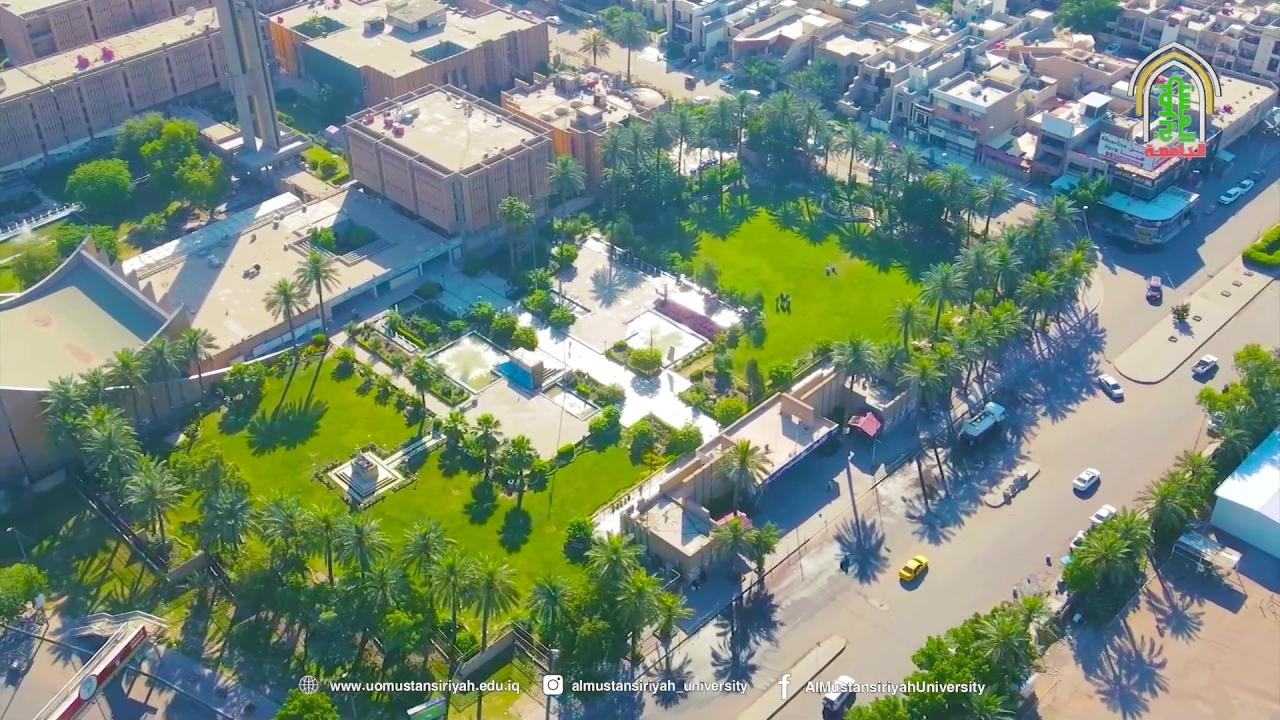car: (959, 400, 1007, 445), (821, 690, 856, 720), (1217, 177, 1254, 205), (898, 554, 928, 582), (1097, 373, 1124, 402), (1088, 504, 1117, 530), (1072, 467, 1100, 493), (1069, 528, 1090, 555), (1192, 354, 1218, 374), (1145, 275, 1162, 301), (1206, 411, 1226, 433), (1217, 186, 1241, 204), (718, 72, 735, 88), (699, 158, 718, 170), (692, 96, 710, 106), (886, 141, 901, 152), (544, 15, 560, 25), (517, 10, 533, 20)
fountain: (608, 306, 712, 379), (428, 332, 506, 392), (0, 199, 85, 242)
tree: (843, 590, 1062, 718), (432, 410, 620, 515), (1194, 341, 1279, 460), (1061, 505, 1155, 592), (68, 402, 142, 499), (612, 566, 669, 681), (119, 452, 187, 546), (422, 549, 478, 663), (463, 551, 520, 652), (647, 590, 695, 708), (253, 487, 311, 583), (138, 117, 199, 200), (711, 436, 773, 514), (1133, 468, 1203, 535), (826, 117, 871, 216), (916, 259, 969, 343), (298, 502, 351, 586), (332, 508, 391, 580), (63, 156, 134, 215), (292, 249, 341, 334), (395, 515, 457, 582), (261, 276, 311, 357), (198, 482, 255, 552), (104, 345, 152, 428), (522, 572, 574, 648), (0, 560, 49, 640), (544, 153, 587, 244), (600, 7, 649, 84), (173, 151, 228, 219), (581, 528, 645, 586), (494, 433, 542, 509), (594, 126, 633, 218), (1171, 448, 1218, 519), (1014, 268, 1063, 336), (4, 234, 61, 292), (896, 354, 946, 416), (970, 173, 1015, 240), (953, 243, 996, 313), (830, 332, 881, 390), (496, 195, 535, 270), (923, 160, 969, 223), (174, 326, 217, 393), (741, 519, 782, 588), (708, 516, 753, 577), (406, 358, 441, 436), (882, 296, 928, 355), (643, 110, 676, 192), (1051, 0, 1122, 37), (466, 412, 503, 481), (433, 410, 470, 476), (985, 238, 1022, 303), (665, 106, 699, 176), (136, 335, 185, 383), (271, 686, 340, 719), (709, 93, 736, 164), (495, 505, 533, 554), (621, 418, 658, 466), (1232, 342, 1274, 384), (548, 242, 577, 301), (587, 403, 621, 452), (1242, 222, 1279, 267), (562, 515, 596, 562), (729, 90, 751, 160), (709, 330, 734, 391), (662, 421, 703, 458), (299, 143, 342, 178), (90, 223, 122, 266), (577, 27, 610, 66), (712, 395, 748, 429), (520, 288, 552, 325), (404, 313, 439, 346), (744, 356, 766, 407), (466, 297, 494, 337), (626, 345, 662, 376), (489, 309, 517, 348), (546, 304, 574, 342), (898, 143, 924, 183), (139, 211, 168, 244), (510, 324, 539, 351), (308, 225, 336, 251), (382, 308, 404, 337), (1169, 300, 1191, 325)
